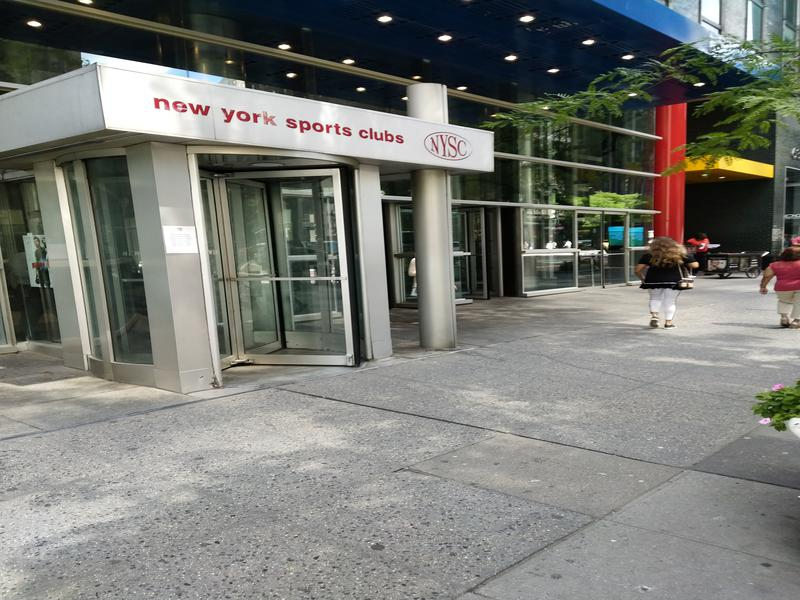revolving_door: (195, 131, 365, 375)
